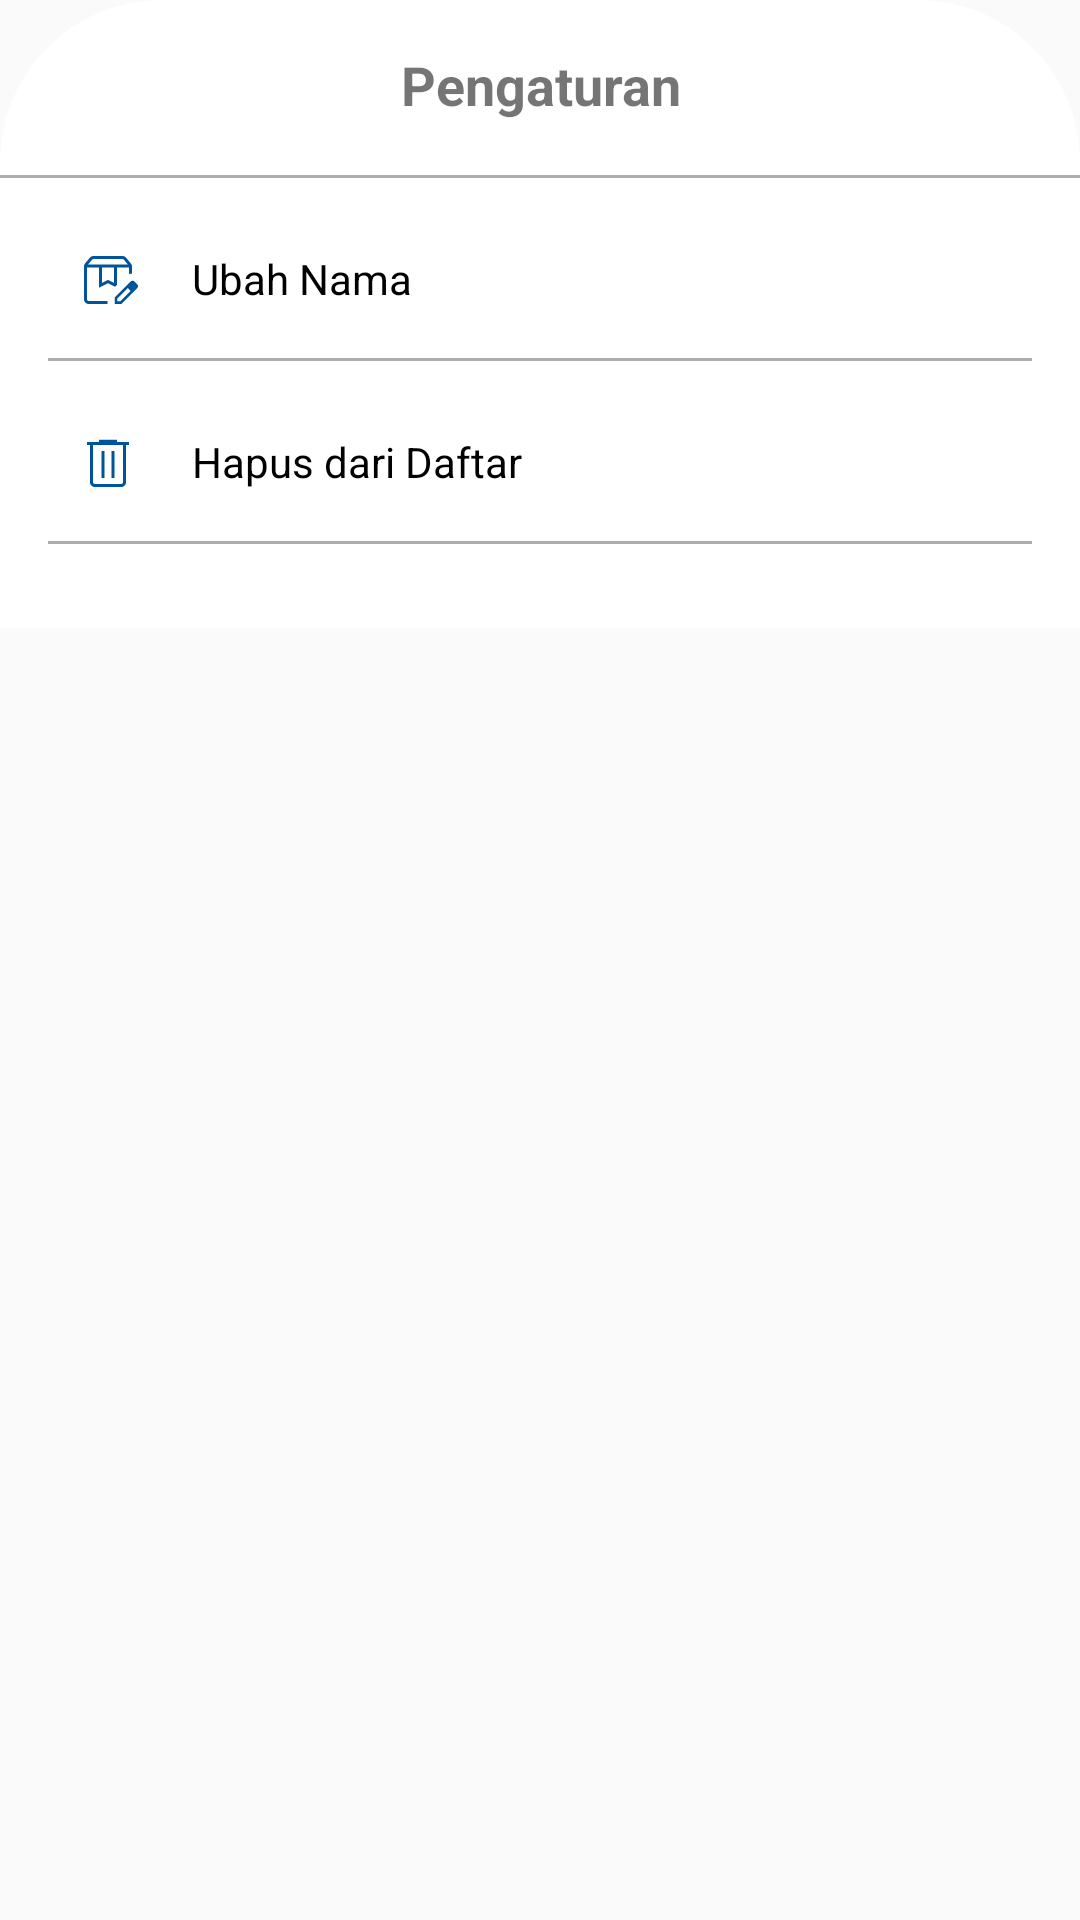

Named icons in this screenshot (1080px×1920px) and their bounding boxes, bbox=[x1, y1, x2, y2]:
delete: bbox=[87, 439, 129, 487]
edit: bbox=[84, 256, 138, 304]
